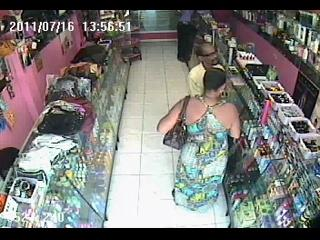Normal: (156, 68, 242, 222), (187, 43, 226, 98), (162, 94, 190, 150), (177, 10, 200, 70), (121, 46, 142, 66)
